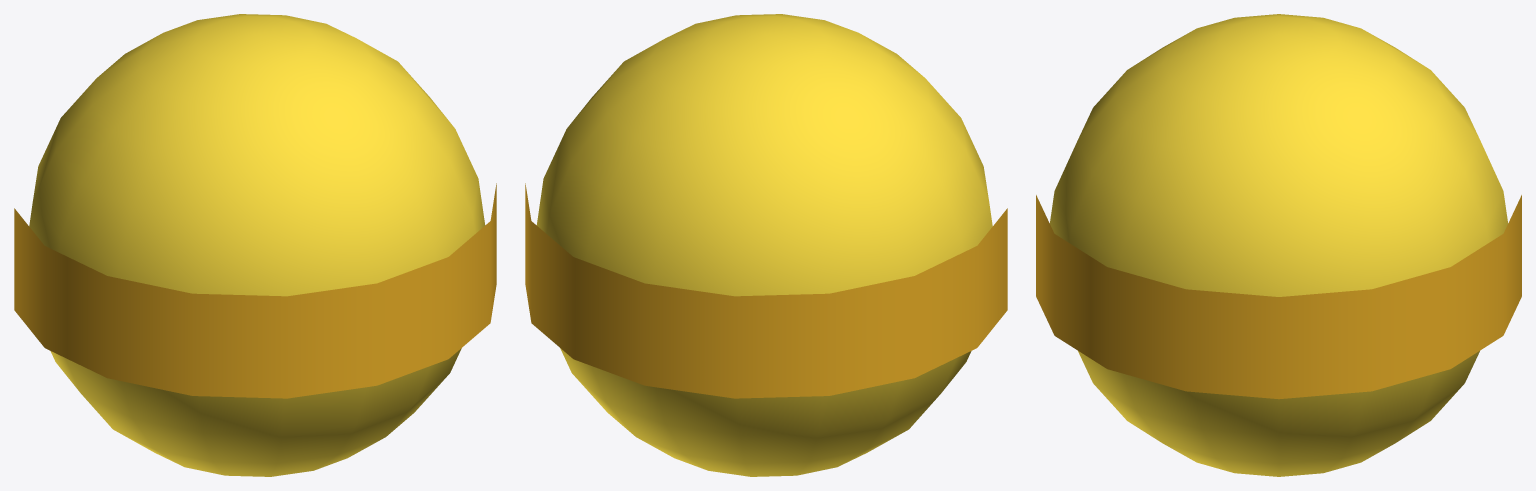
Rendered from snake_yellow_body.glb.
3 views of the same model, side by side, from view 1: azimuth 30°, elevation 25°; view 2: azimuth 150°, elevation 25°; view 3: azimuth 270°, elevation 25° (orthographic).
Size of the model in its own units: 0.69 by 0.66 by 0.69.
